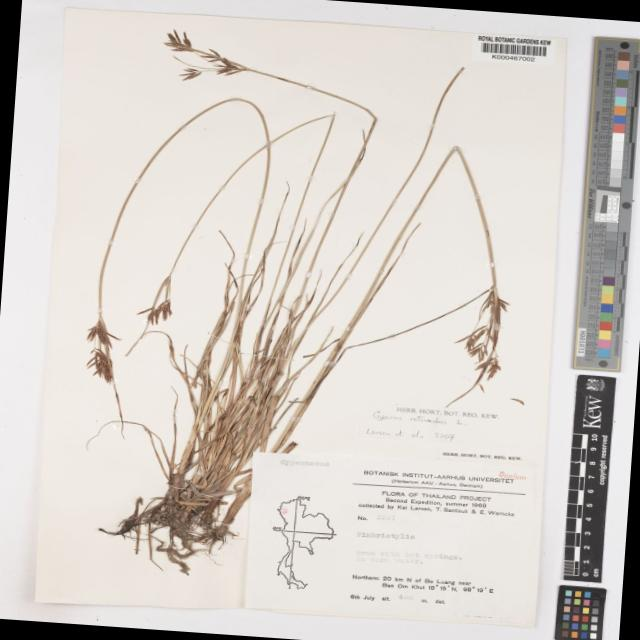cyperus: (67, 263, 195, 390), (437, 282, 536, 401), (148, 23, 250, 94)
